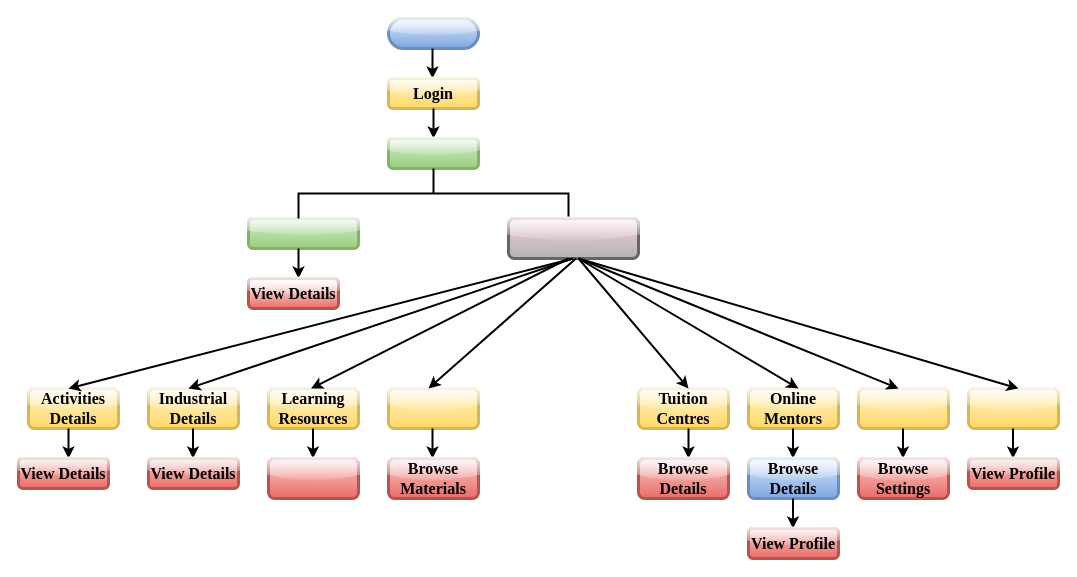
Some shapes in this 1077 by 577 pixel diagram are drawn without their labels. Each missing label, with the centre of its shape:
"Browse Resource" belongs at point 313,478.
"Homepage" belongs at point 433,153.
"Learning Materials" belongs at point 433,408.
"Navigation Menu" belongs at point 573,238.
"Profile" belongs at point 1013,408.
"School Details" belongs at point 303,233.
"Settings" belongs at point 903,408.
"Sign up" belongs at point 433,33.
